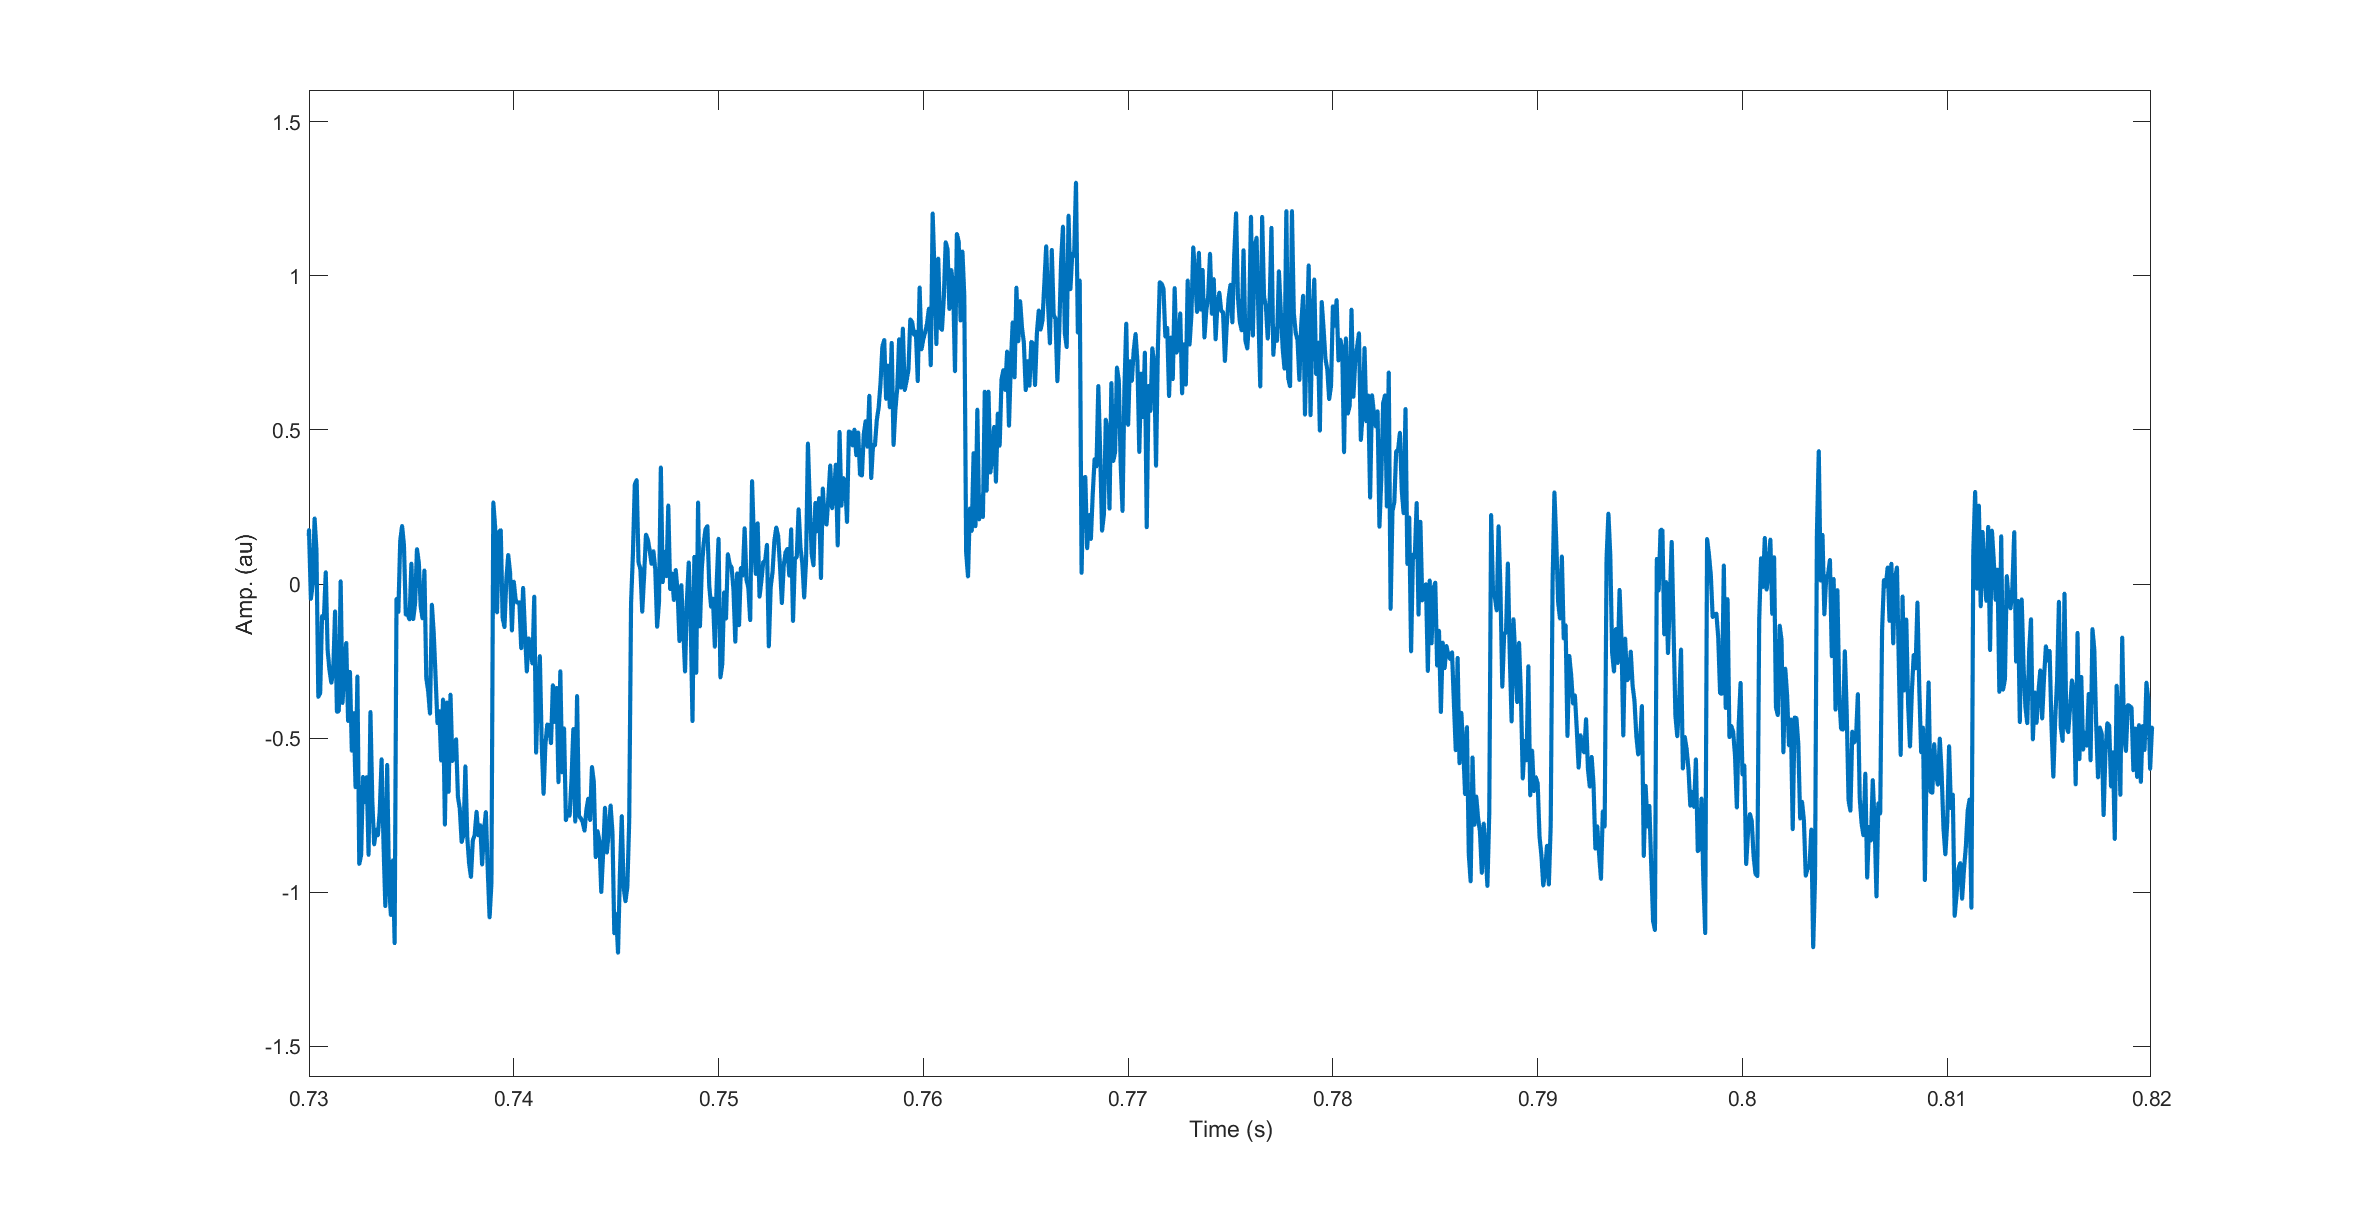negative_fringe: (478, 486, 613, 928), (380, 505, 471, 948), (619, 458, 707, 909), (1966, 475, 2049, 904), (1799, 431, 1867, 946), (1876, 542, 1951, 903), (1537, 465, 1593, 889), (1475, 499, 1528, 903), (1645, 532, 1697, 935), (1697, 532, 1744, 943), (1751, 536, 1798, 935), (1602, 502, 1643, 895)
positive_fringe: (985, 168, 1094, 580), (861, 196, 975, 580)
